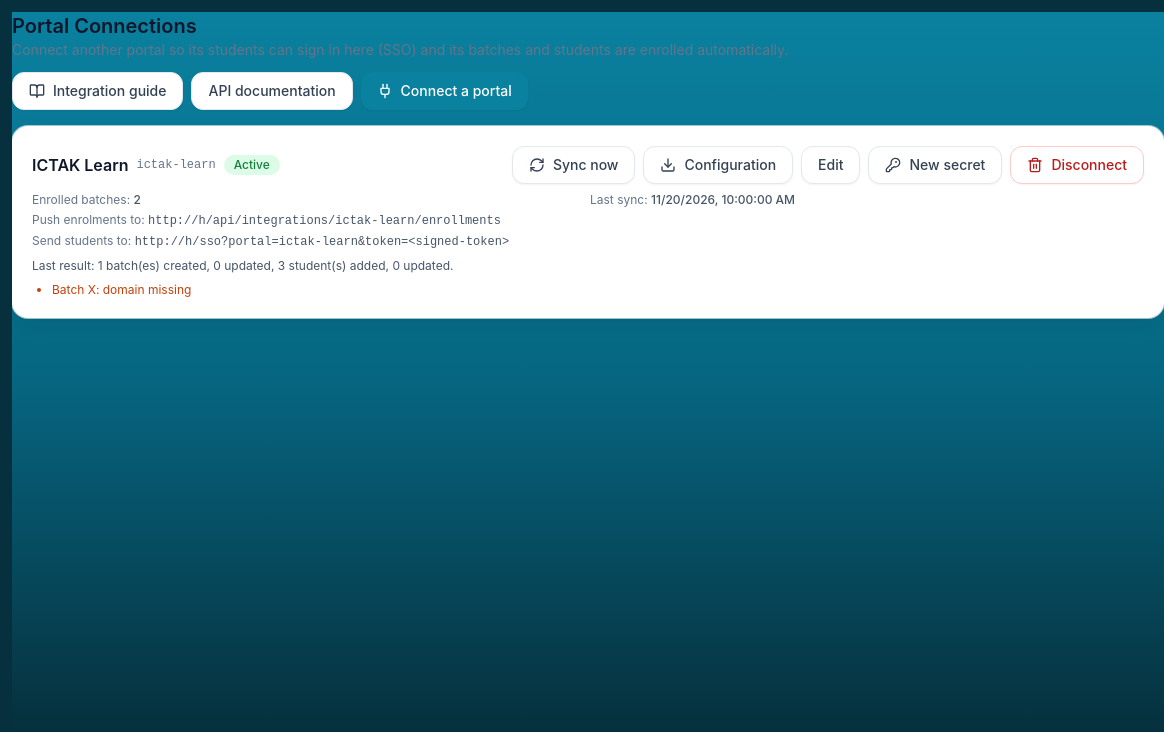
Test: portal connections (admin) › lists portals with their endpoints and last sync problems, and syncs now
Expected: the text "http://h/api/integrations/ictak-learn/enrollments" is shown, [148,214,501,228]
Expected: the list item "Batch X: domain missing" is shown, [52,282,191,297]
Click the button "Sync now": [574, 165] box [512,146,636,184]
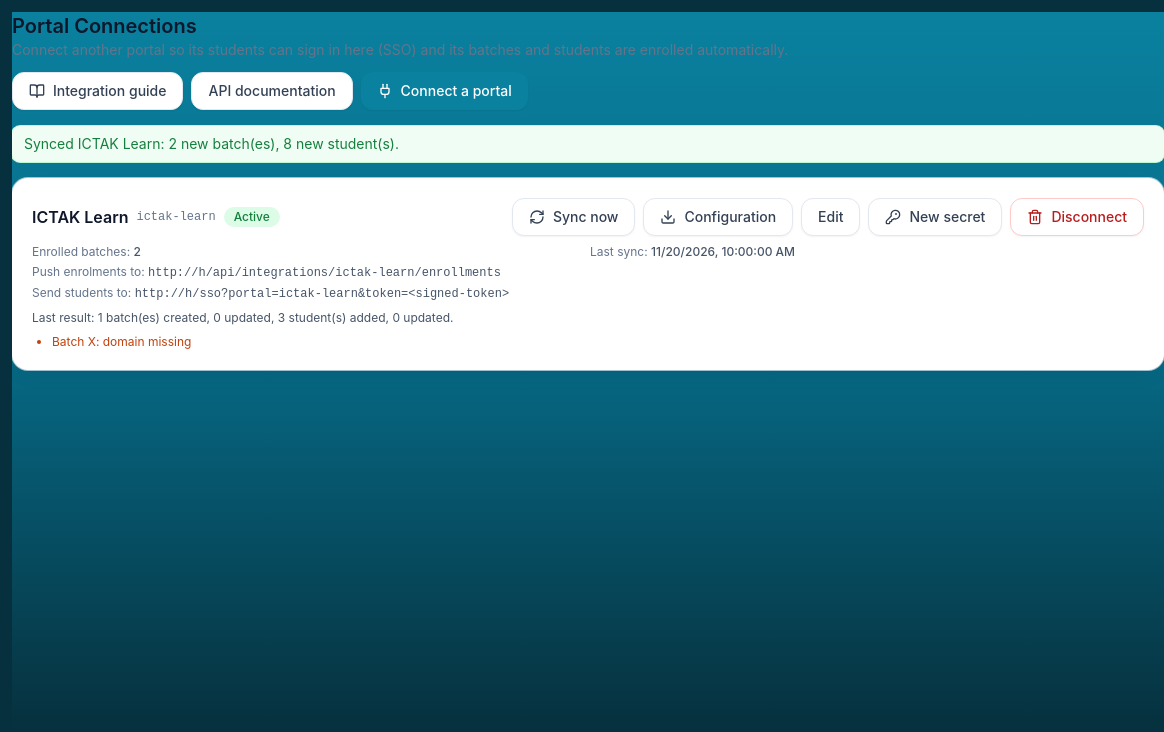
Expected: the text "Synced ICTAK Learn: 2 new batch(es), 8 new student(s)." is shown, [12,126,1163,162]
